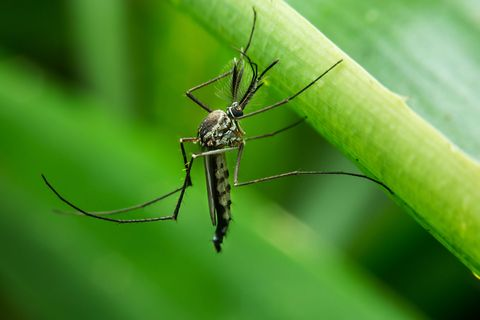mosquito: (145, 21, 408, 257)
